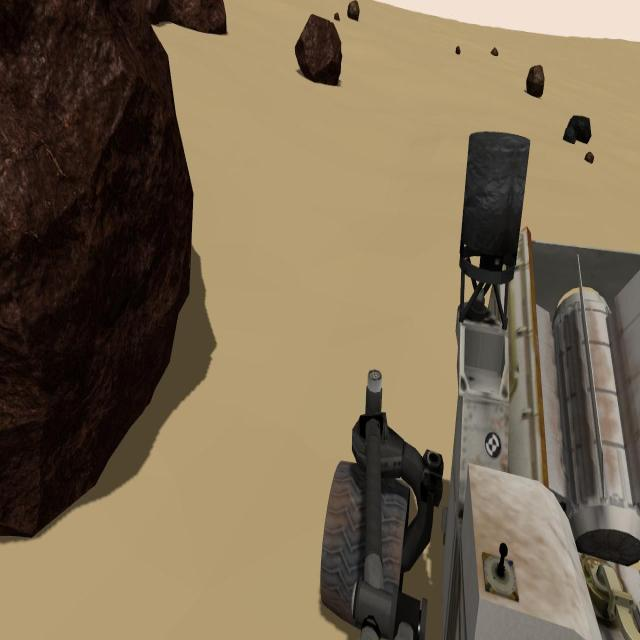rock: (1, 0, 192, 537), (296, 14, 342, 86), (142, 2, 227, 34), (568, 115, 591, 144), (527, 63, 544, 96), (562, 125, 575, 144), (348, 0, 360, 20), (585, 150, 594, 164), (489, 46, 498, 56), (455, 44, 460, 55), (334, 13, 340, 20)
